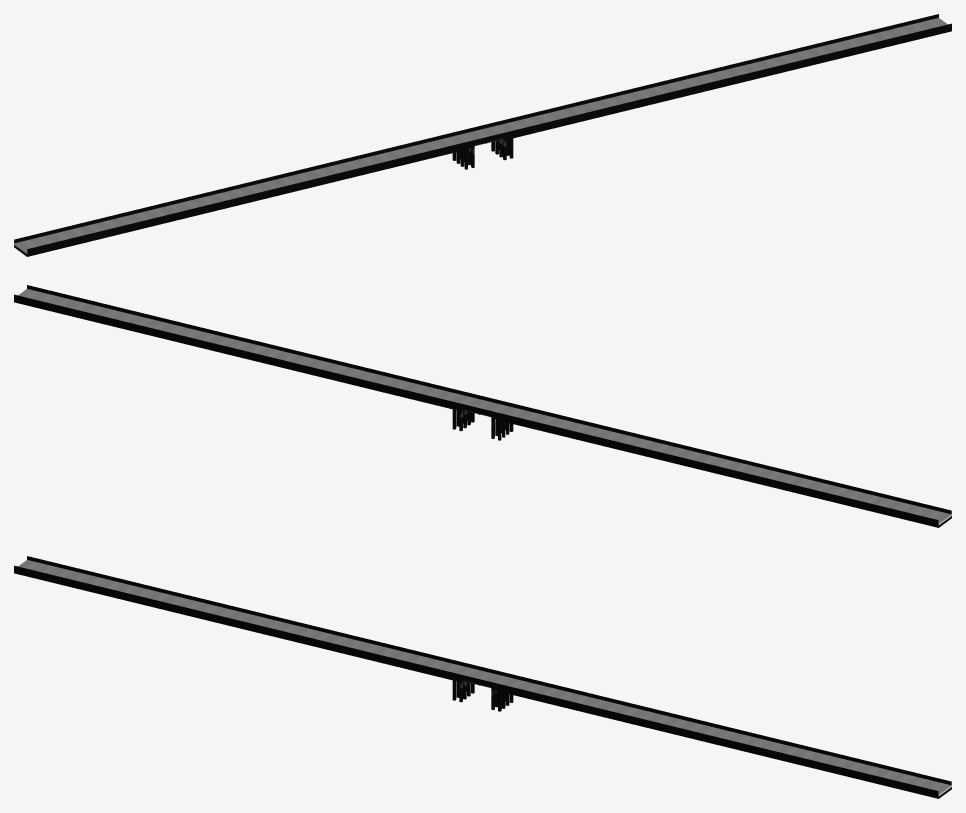
The model's file is AMB_LANDBRIDGE02.glb.
The picture shows the model from 3 angles, top to bottom: view 1: azimuth 30°, elevation 25°; view 2: azimuth 150°, elevation 25°; view 3: azimuth 330°, elevation 25°; orthographic projection.
Parts seen in each view (by area): view 1: rikkyou00; view 2: rikkyou00; view 3: rikkyou00.
Boxes of the visible parts, box(x1,y1,x2,y2) form: rikkyou00: box(14, 14, 951, 256); rikkyou00: box(14, 285, 951, 527); rikkyou00: box(14, 556, 951, 798).
Size of the model in its own units: 2000 by 56.81 by 50.74.
Materials: 5 (5 with a texture image).
